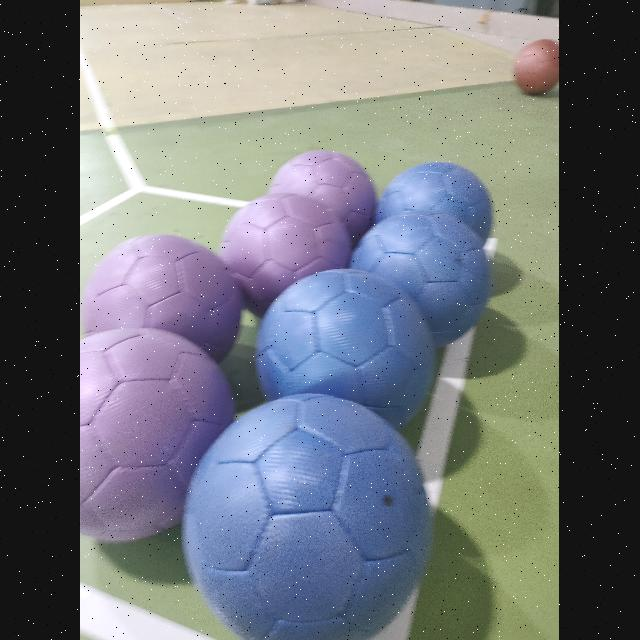B: (184, 392, 432, 640), (261, 267, 441, 431), (351, 211, 493, 347), (379, 162, 496, 268)
P: (80, 328, 234, 540), (87, 233, 245, 377), (220, 194, 352, 316), (266, 148, 376, 244)
R: (516, 40, 560, 92)
